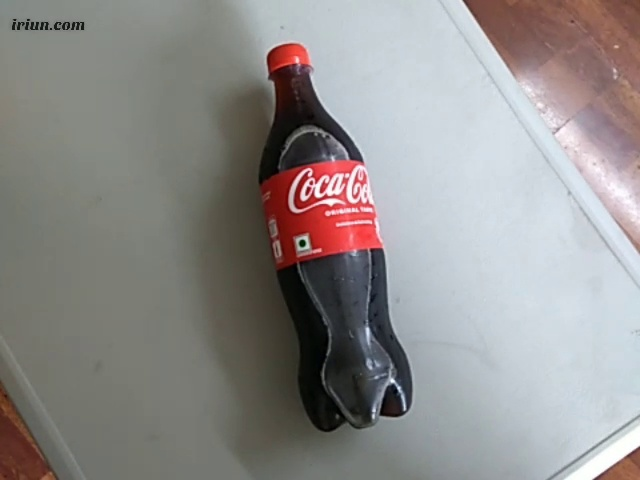Cocacola: (241, 32, 432, 443)
